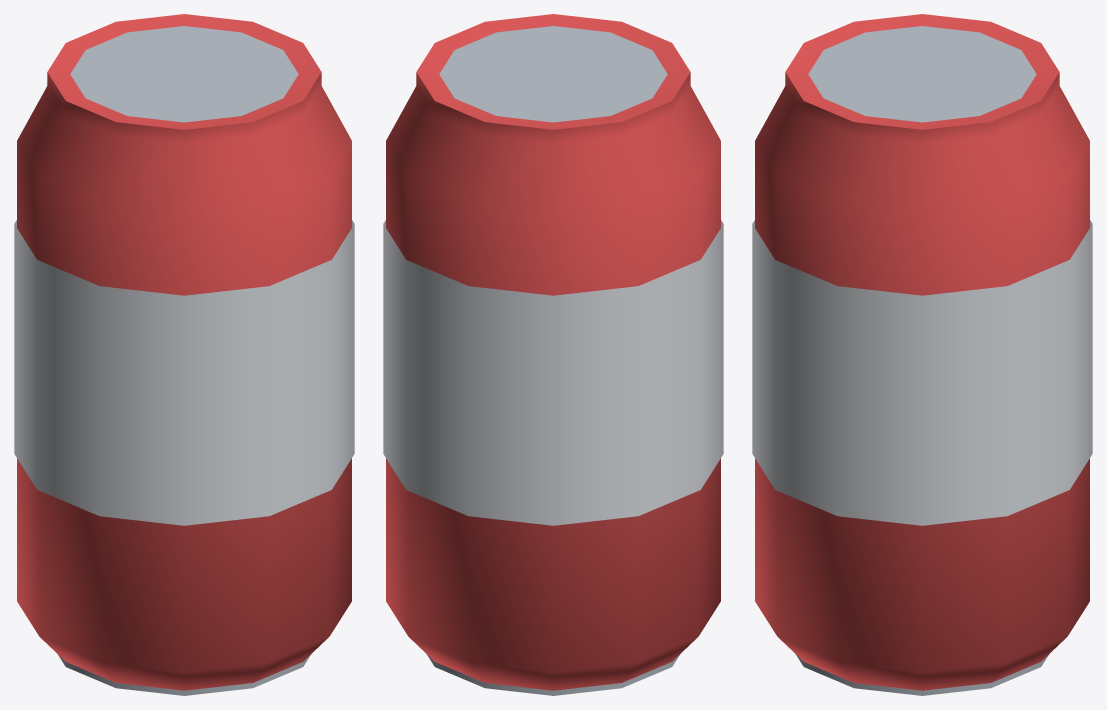
Rendered from soda_can.glb.
3 views of the same model, side by side, from view 1: azimuth 30°, elevation 25°; view 2: azimuth 150°, elevation 25°; view 3: azimuth 270°, elevation 25° (orthographic).
Parts seen in each view (by area): view 1: soda_can; view 2: soda_can; view 3: soda_can.
Boxes of the visible parts, x1,y1,x2,y2 form: soda_can: (14,14,354,695); soda_can: (383,14,723,695); soda_can: (752,14,1092,695).
Size of the model in its own units: 0.067 by 0.123 by 0.067.
